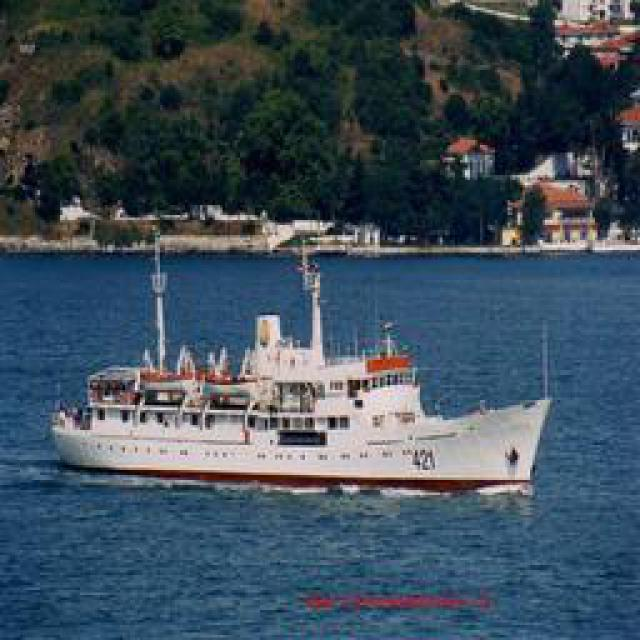Ship: (52, 251, 555, 496)
